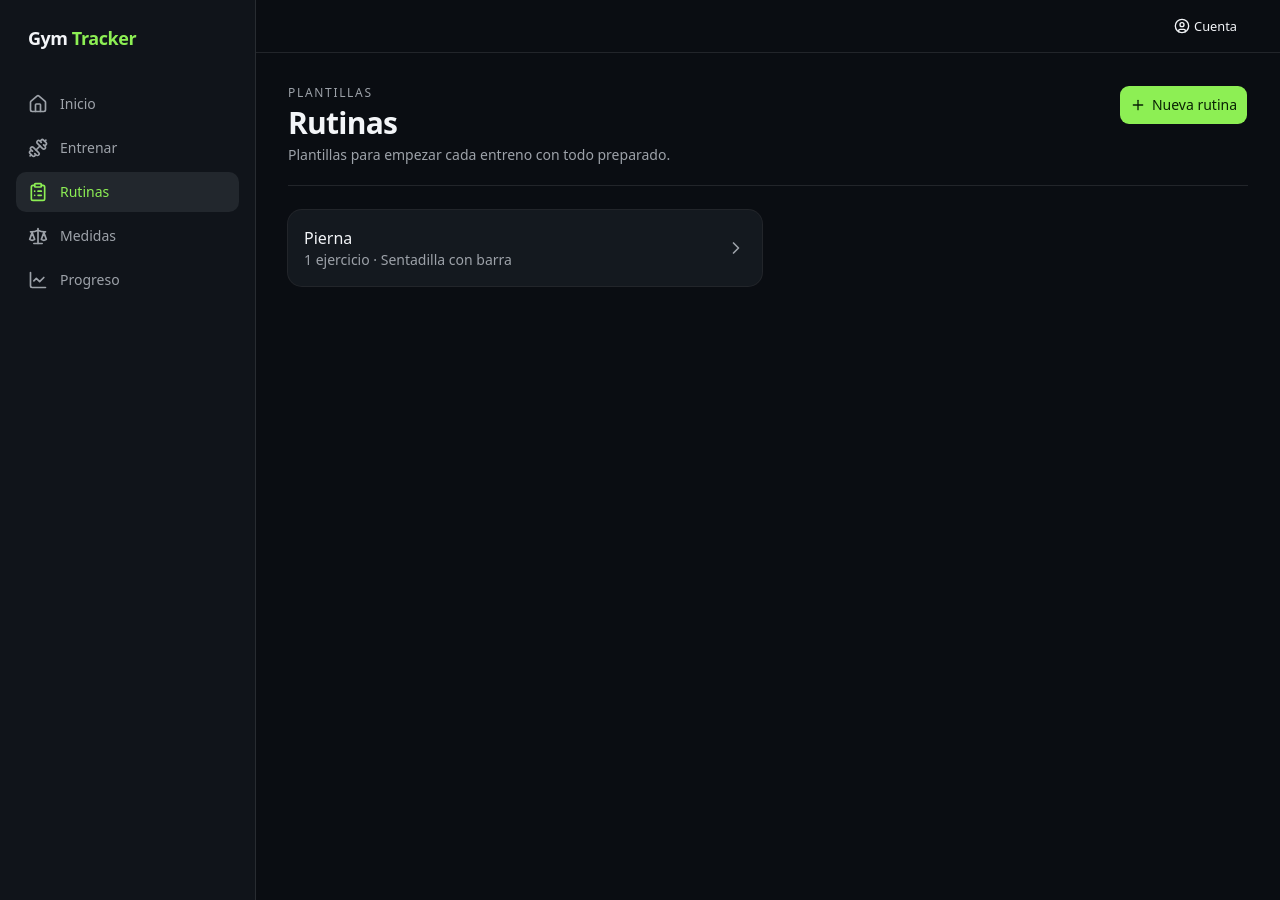
Test: Routines › edits and deletes an existing routine
Click the link "Pierna 1 ejercicio · Sentadilla con barra".
click(328, 238)  # box [288,210,762,286]
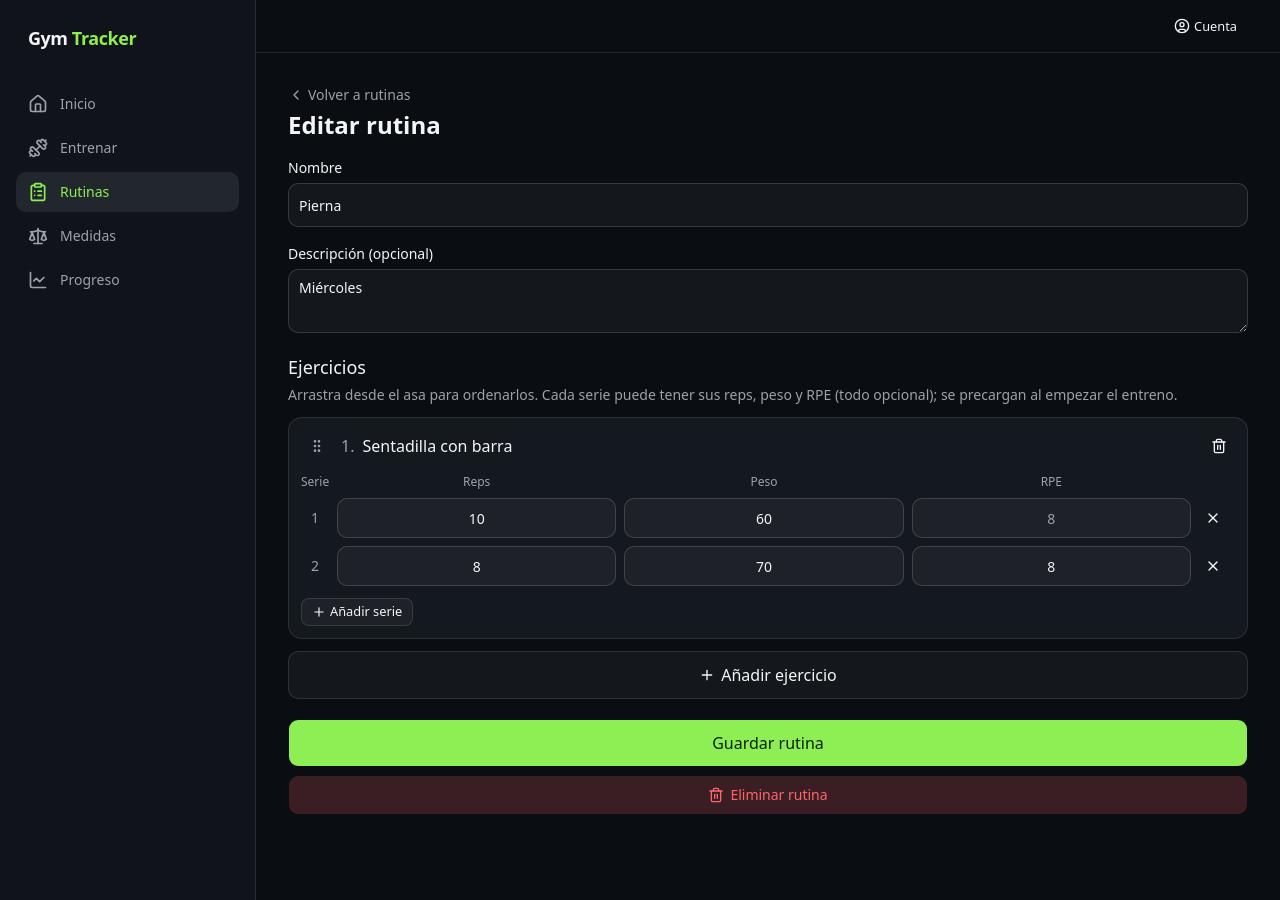
Check: the field labelled "Nombre" holds "Pierna"
Check: the field named "Serie 1: Peso (kg)" holds "60", box [624,498,904,538]
Check: the field named "Serie 2: RPE" holds "8", box [912,546,1191,586]
Replace the text in the field labelled "Nombre" with "Pierna A" at (768, 205), box [288,183,1248,227]
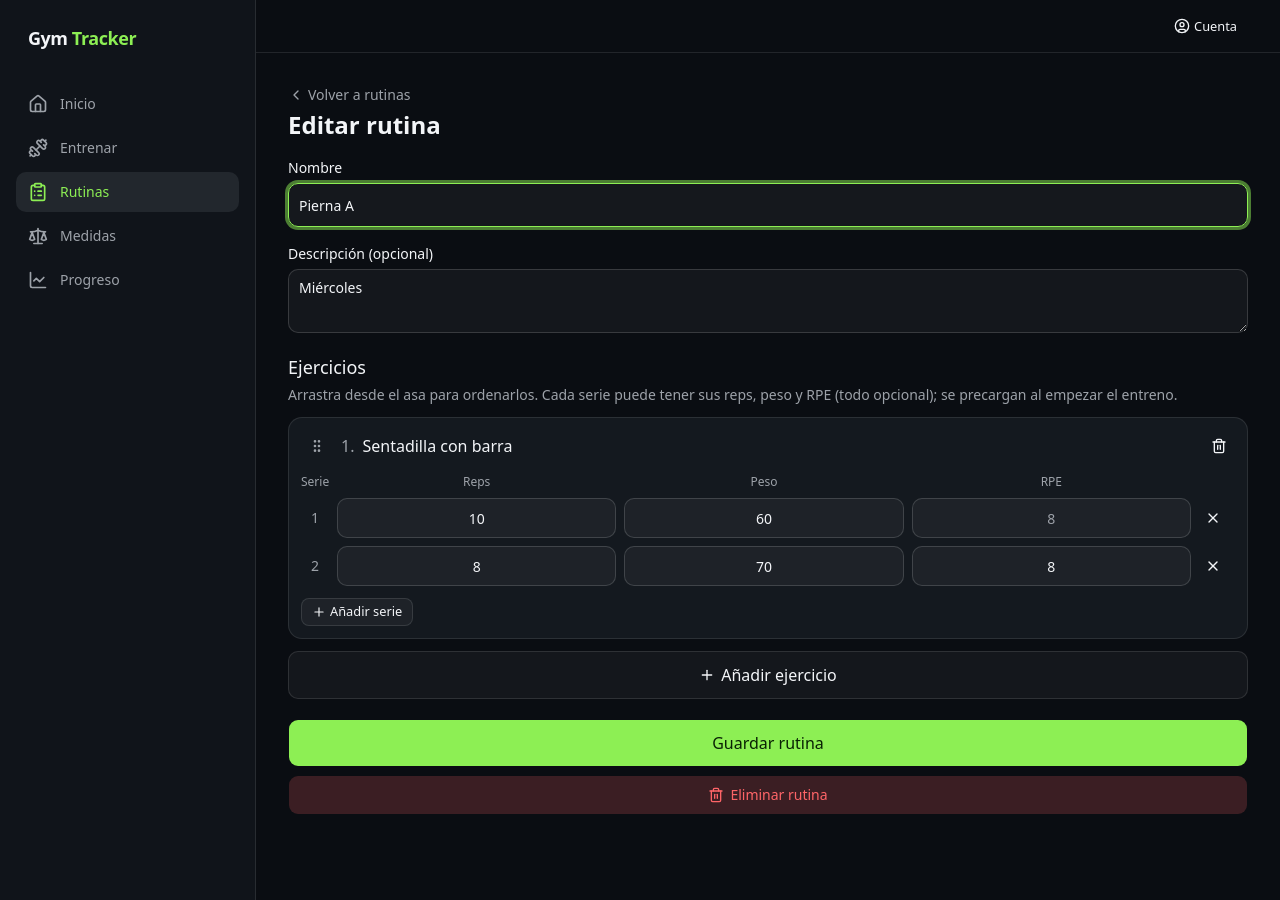
Click the button "Guardar rutina".
click(768, 743)  # box [288,719,1248,767]
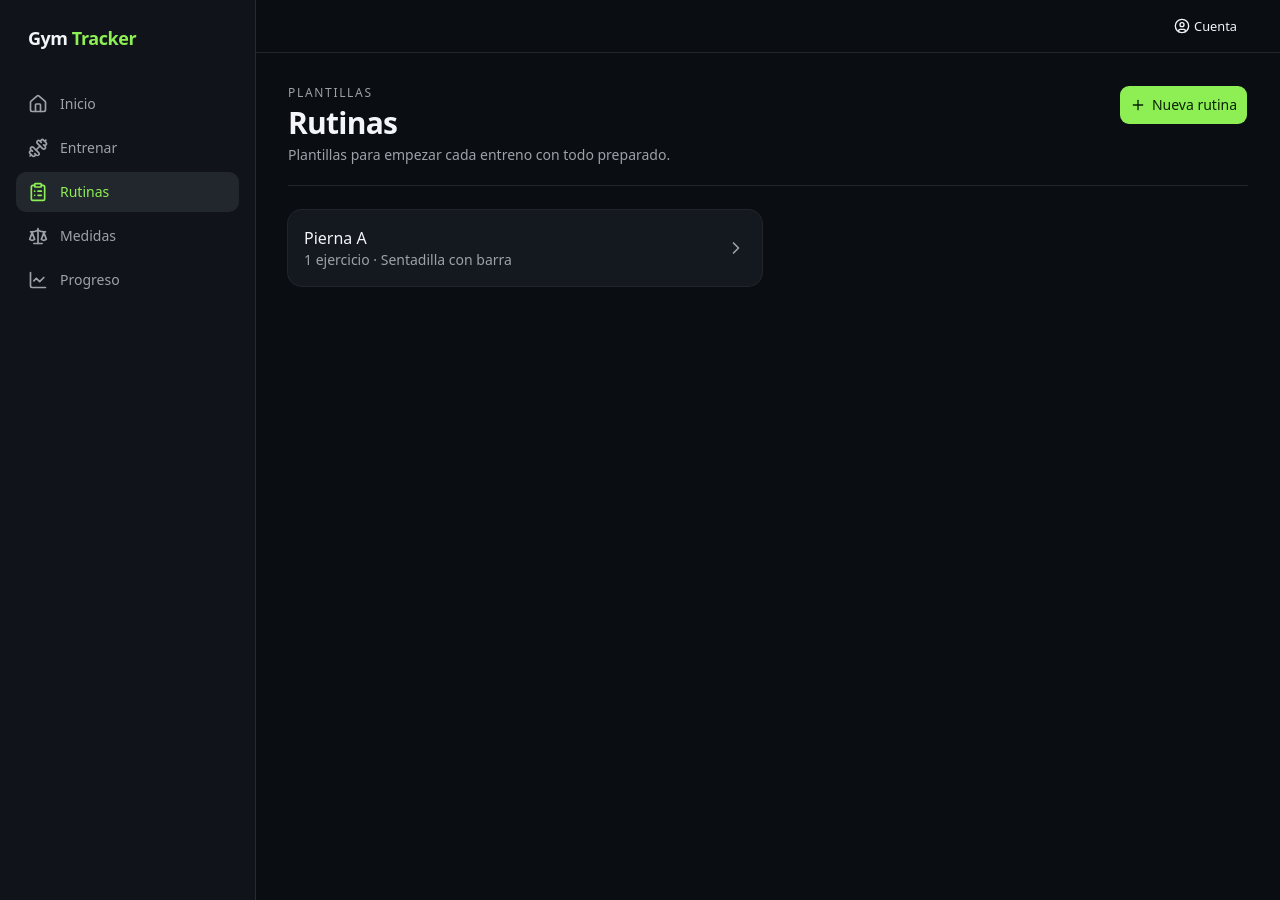
Check: the link "Pierna A 1 ejercicio · Sentadilla con barra" is shown
Click the link "Pierna A 1 ejercicio · Sentadilla con barra".
click(335, 238)  # box [288,210,762,286]
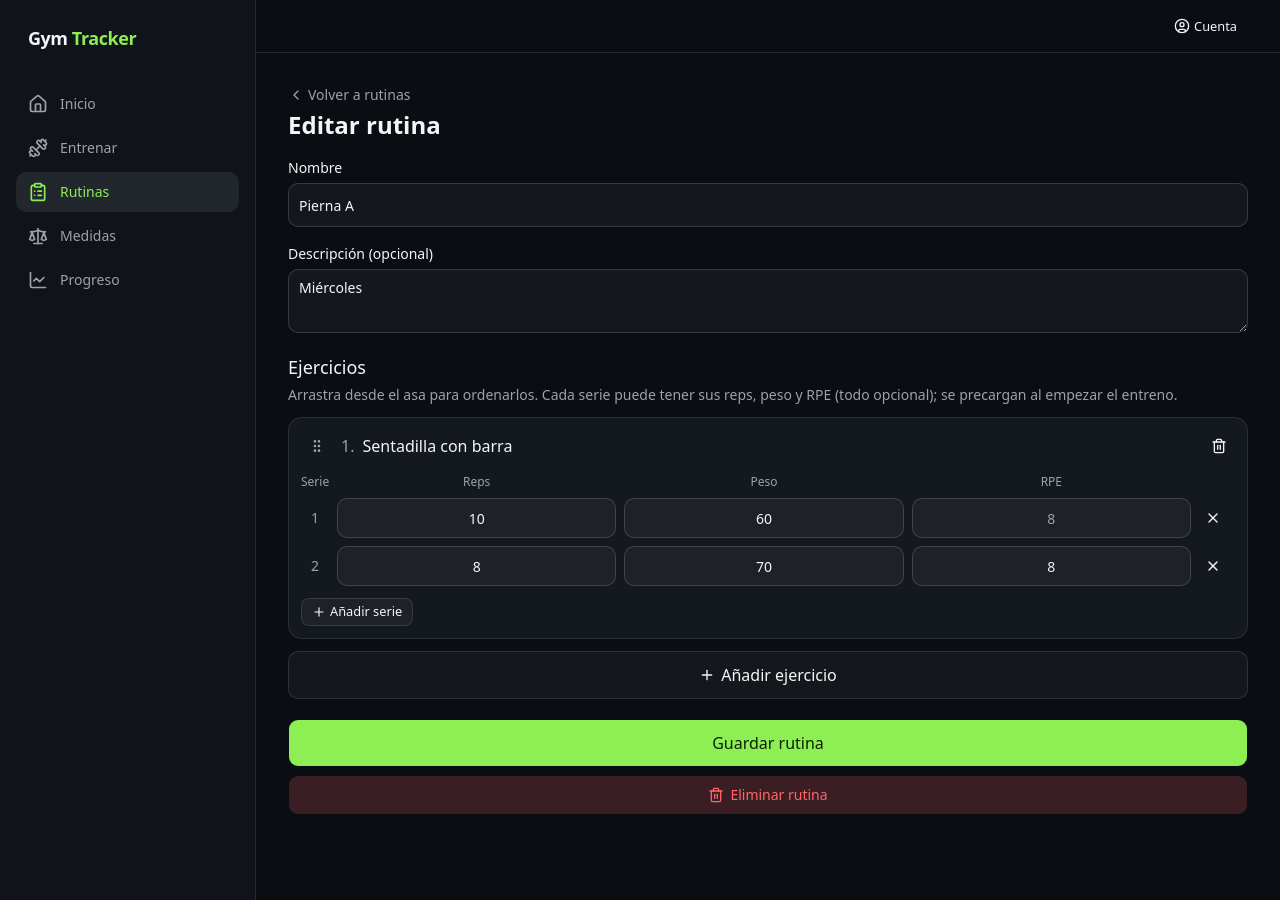
Click the button "Eliminar rutina".
click(768, 795)  # box [288,775,1248,815]
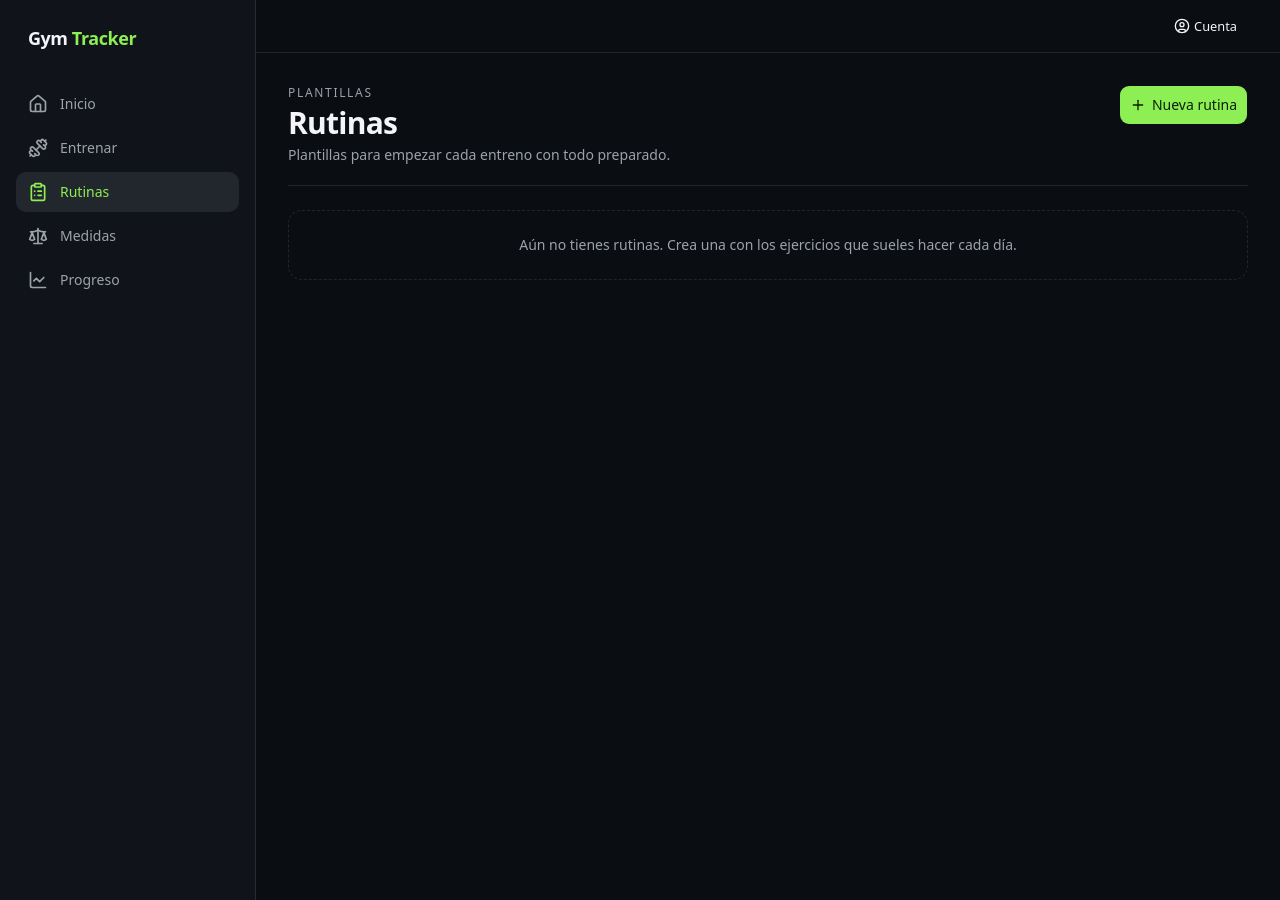
Check: the text "Aún no tienes rutinas" is shown, box [519,235,1017,254]
